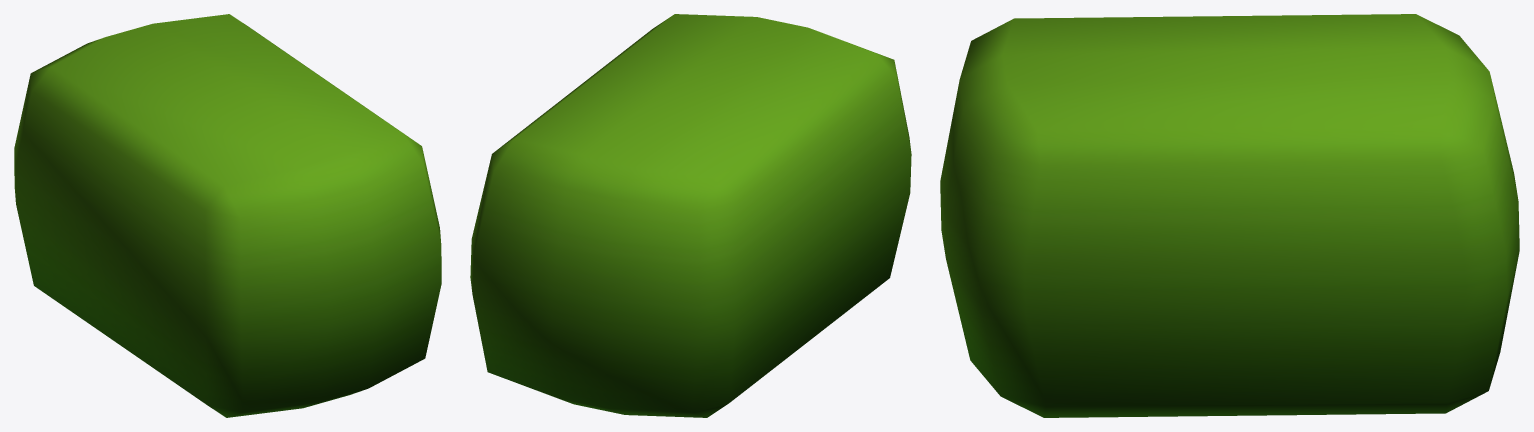
Rendered from Bush_1_2.obj.
3 renders of one model, left to right at view 1: azimuth 30°, elevation 25°; view 2: azimuth 150°, elevation 25°; view 3: azimuth 270°, elevation 25°, orthographic. The views are drawn at different scales.
Parts seen in each view (by area): view 1: Bush_1_2; view 2: Bush_1_2; view 3: Bush_1_2.
Boxes of the visible parts, left/top/right/bottom form: Bush_1_2: left=14, top=14, right=441, bottom=417; Bush_1_2: left=470, top=14, right=911, bottom=417; Bush_1_2: left=940, top=14, right=1519, bottom=417.
Bounding box in the file's own units: 0.799 × 0.728 × 1.29.
